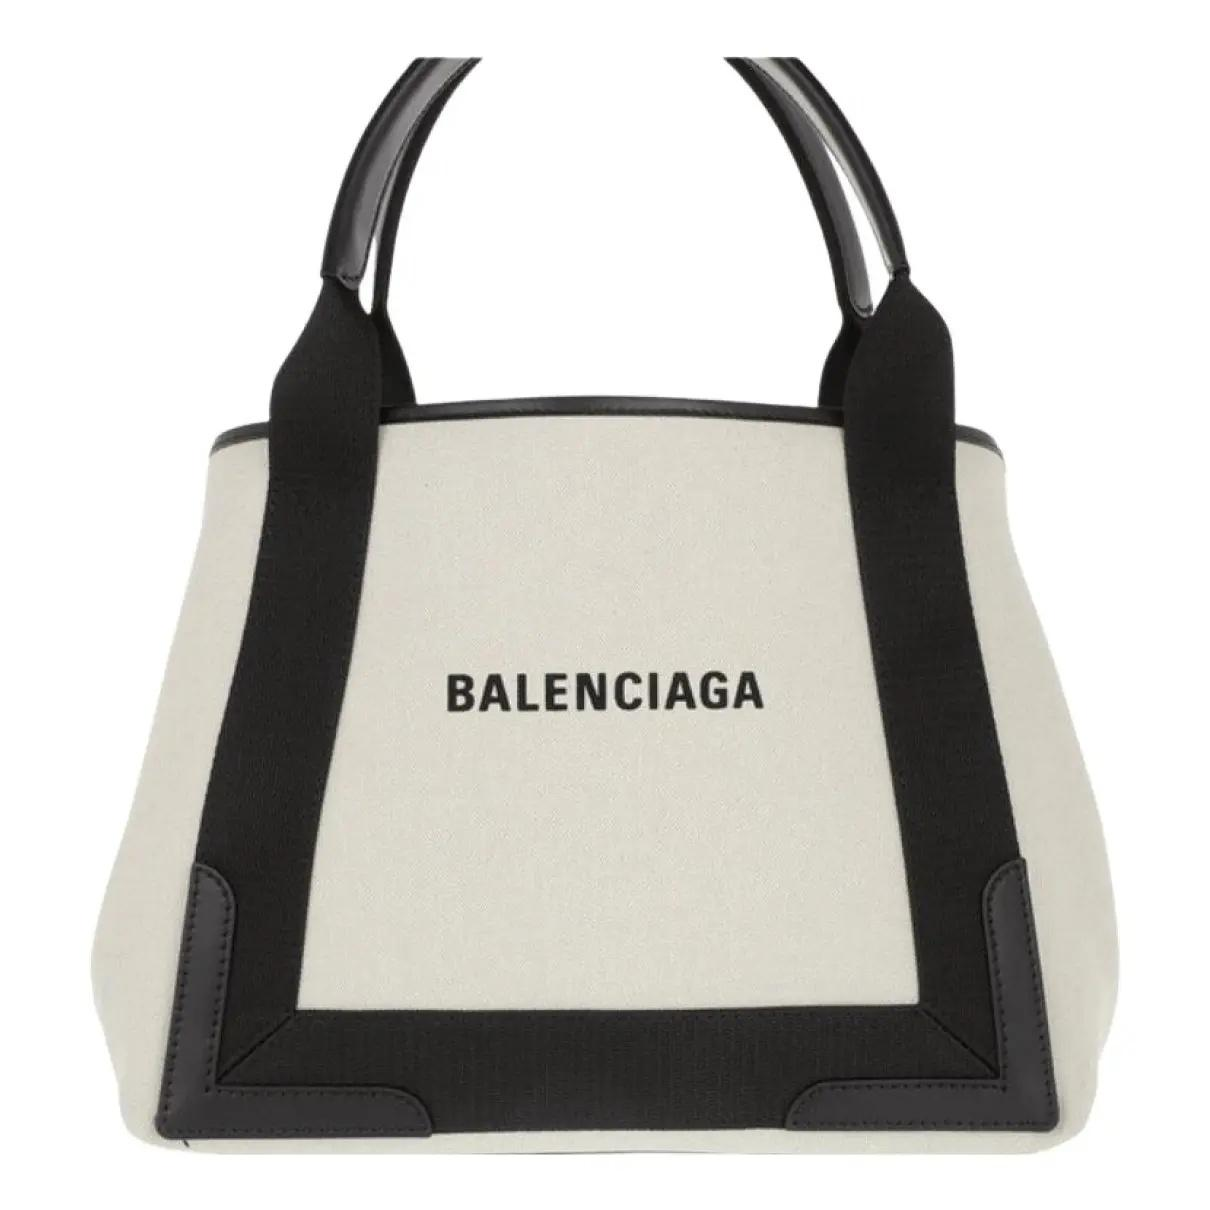BALENCIAGA: (447, 670, 766, 712)
